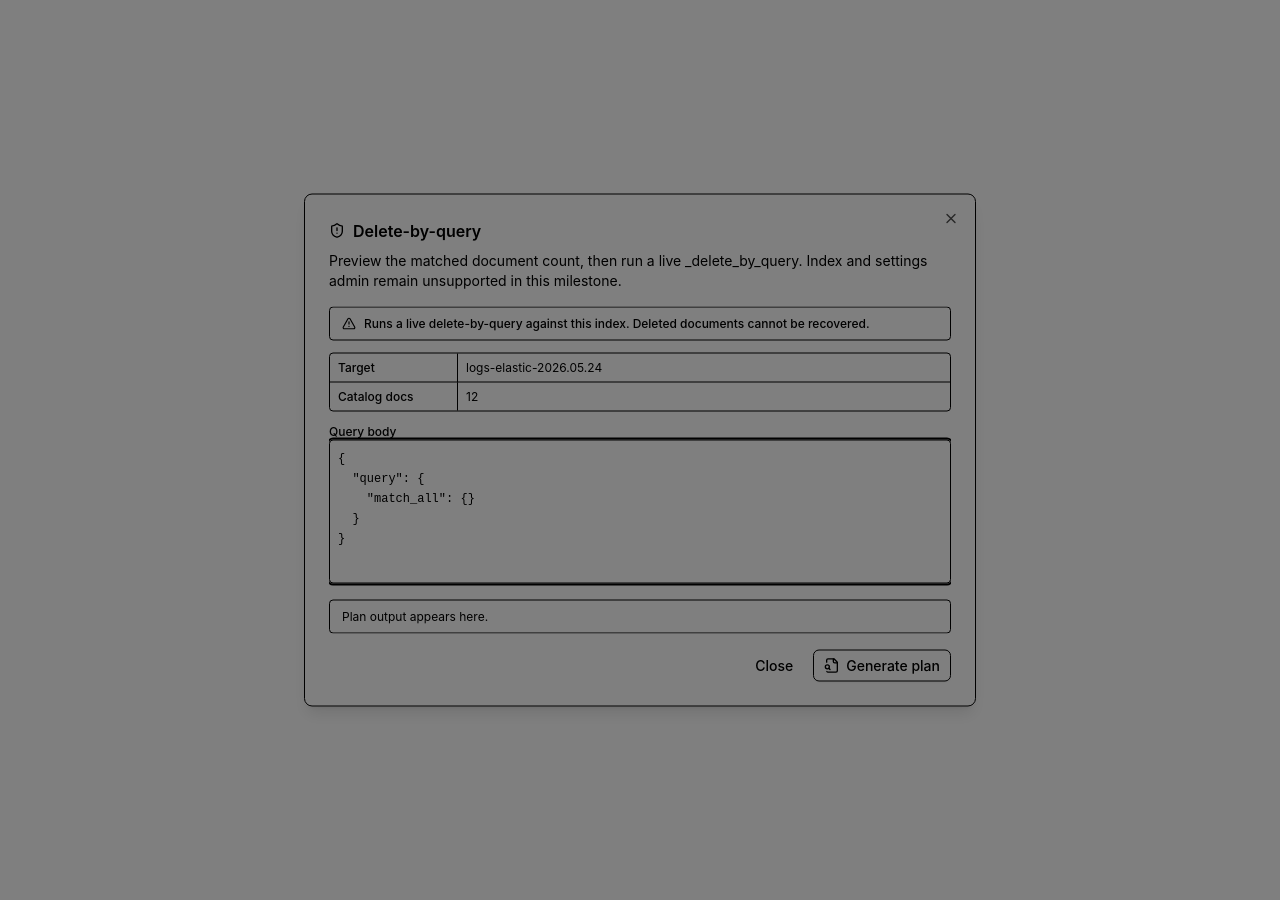
it: SearchDeleteByQueryPreviewDialog › generates a live delete-by-query plan with warnings and an estimated count
Expected: the text "run a live _delete_by_query" is shown, [329, 252, 928, 288]
Click the button "Generate plan" at coordinates (882, 666), box [813, 650, 951, 682]
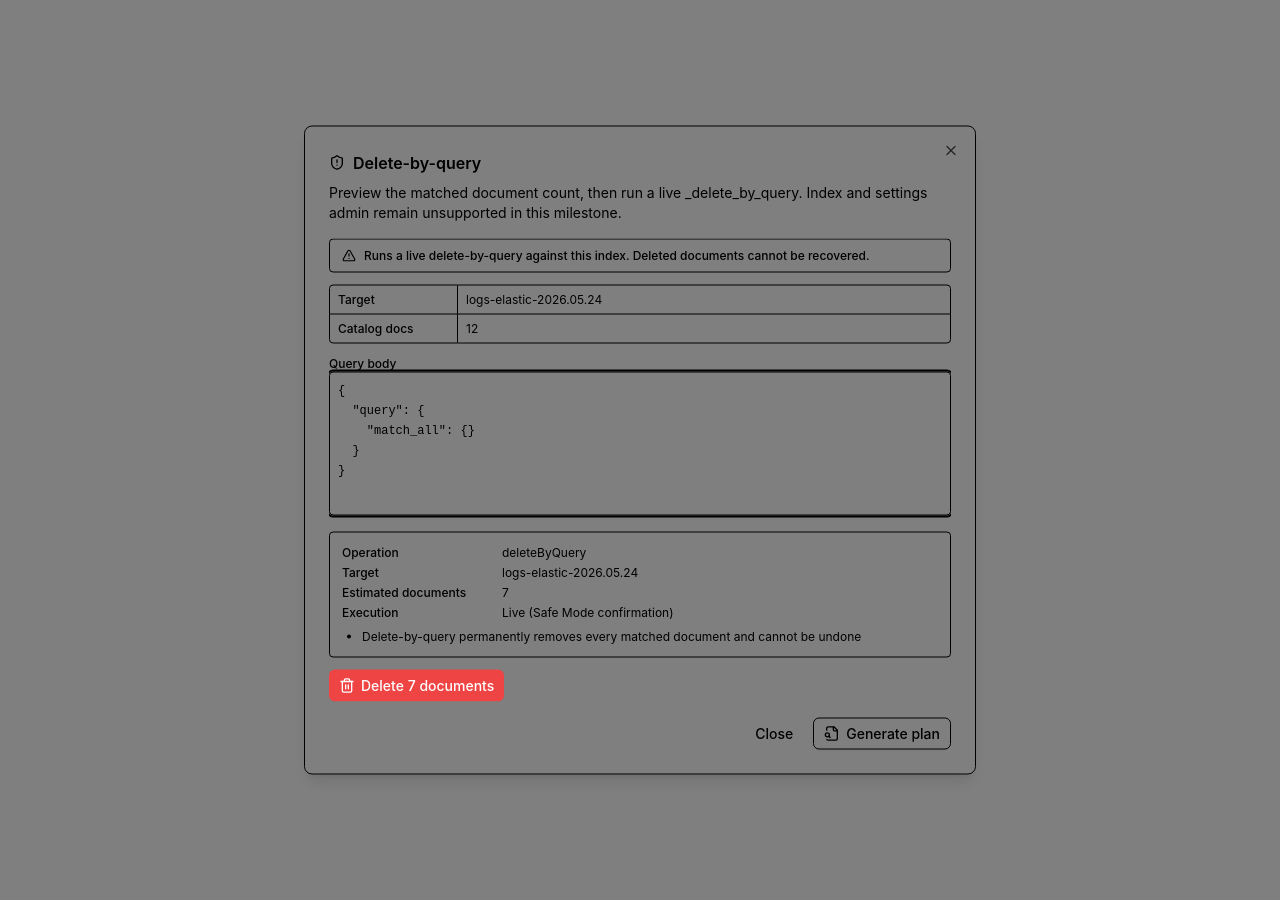
Now the element named "Delete-by-query preview plan" shows "Live (Safe Mode confirmation)", box [502, 604, 674, 620]
Now the element named "Delete-by-query preview plan" shows "cannot be undone", box [362, 628, 861, 644]
Now the button "Delete 7 documents" is shown, box [329, 670, 504, 702]
